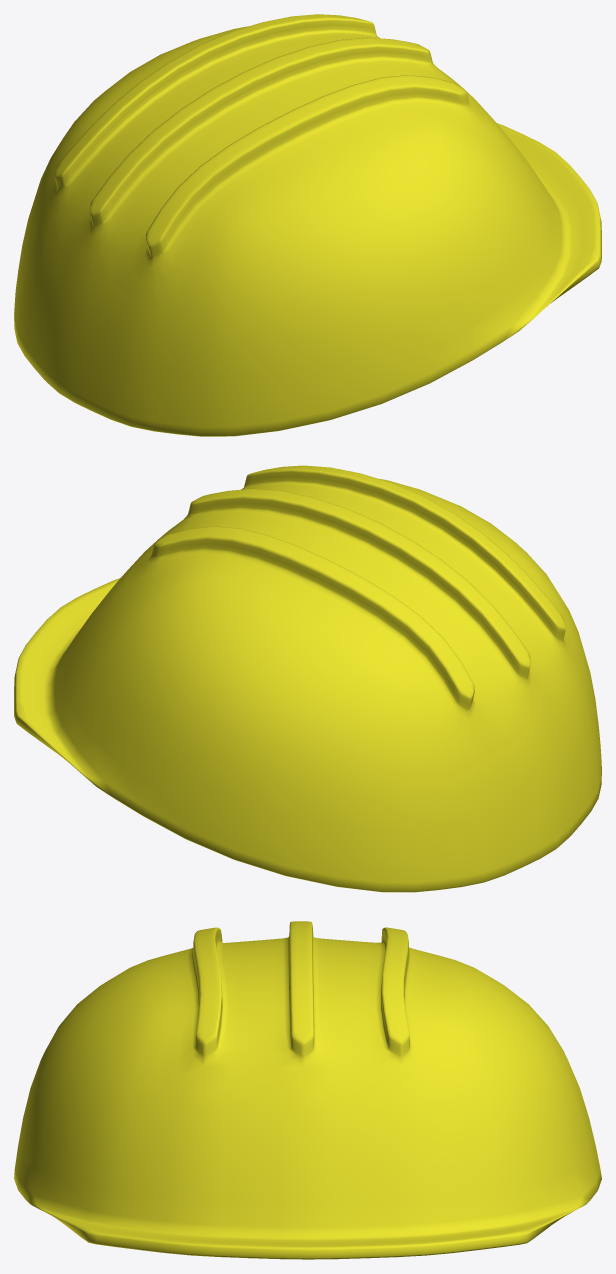
File: helmet.fbx
3 views of the same model, one above another, from view 1: azimuth 30°, elevation 25°; view 2: azimuth 150°, elevation 25°; view 3: azimuth 270°, elevation 25° (orthographic). The views are drawn at different scales.
Parts seen in each view (by area): view 1: Cube; view 2: Cube; view 3: Cube.
Boxes of the visible parts, bbox=[...] form: Cube: bbox=[14, 14, 601, 436]; Cube: bbox=[14, 465, 601, 892]; Cube: bbox=[14, 921, 601, 1259].
Size of the model in its own units: 154 by 84.18 by 151.
